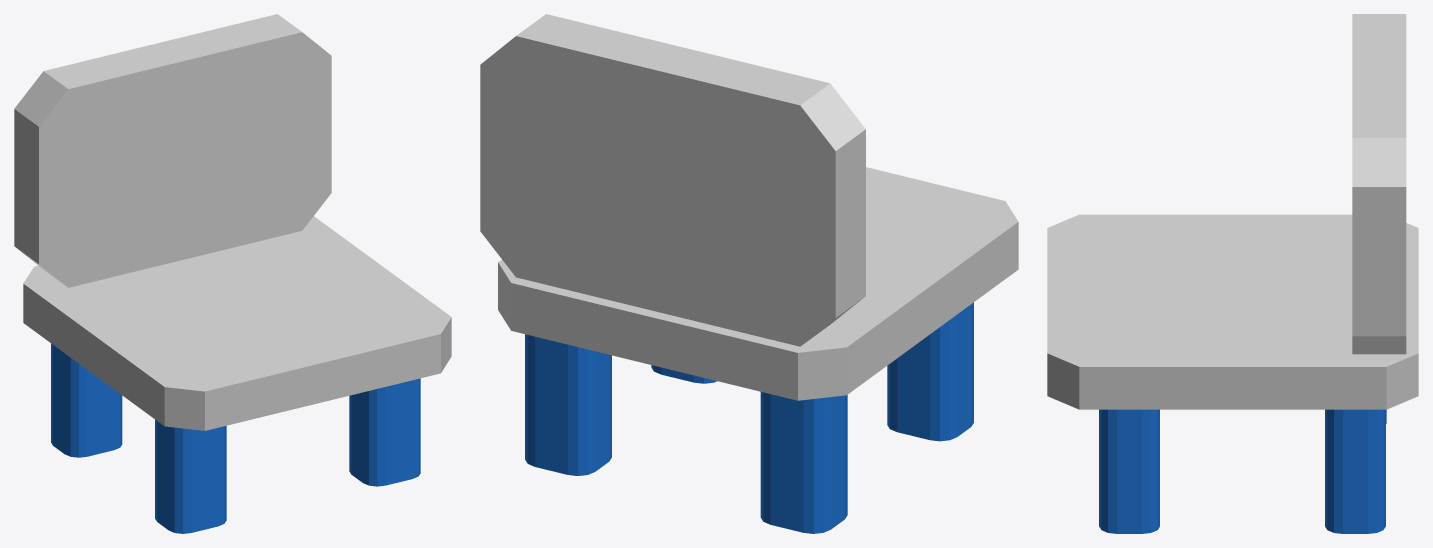
Rendered from sandalye.fbx.
3 renders of one model, left to right at view 1: azimuth 30°, elevation 25°; view 2: azimuth 150°, elevation 25°; view 3: azimuth 270°, elevation 25°, orthographic. The views are drawn at different scales.
Visible parts, largest first — view 1: Cube.002; view 2: Cube.002; view 3: Cube.002.
Part boxes in pixels (box(x1,y1,x2,y2)): Cube.002: box(14, 14, 451, 533); Cube.002: box(480, 14, 1018, 533); Cube.002: box(1047, 14, 1418, 533).
Bounding box in the file's own units: 140 × 164 × 141.
